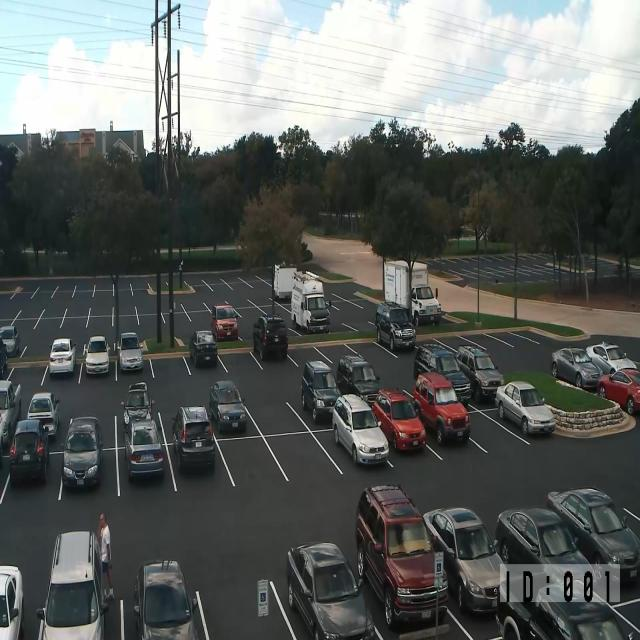car: (355, 483, 449, 629), (496, 572, 639, 640), (494, 506, 594, 603), (422, 506, 507, 616), (546, 486, 640, 585), (286, 541, 376, 639), (36, 530, 109, 639), (133, 559, 199, 639), (413, 371, 471, 446), (332, 393, 389, 466), (529, 598, 626, 639), (413, 344, 471, 408), (372, 388, 426, 452), (495, 381, 556, 436), (61, 415, 103, 489), (172, 405, 215, 472), (455, 345, 504, 403), (9, 418, 49, 484), (124, 417, 164, 481), (301, 360, 341, 423), (550, 346, 603, 391), (336, 353, 380, 407), (375, 302, 416, 352), (597, 368, 640, 415), (209, 380, 247, 432), (0, 378, 21, 466), (0, 564, 24, 640), (586, 341, 637, 375), (252, 313, 288, 361), (121, 381, 154, 432), (26, 392, 60, 438), (411, 284, 441, 327), (189, 330, 218, 368), (116, 332, 144, 371), (83, 335, 110, 375), (211, 302, 238, 342), (49, 337, 76, 375), (0, 324, 20, 356), (0, 336, 8, 377)
